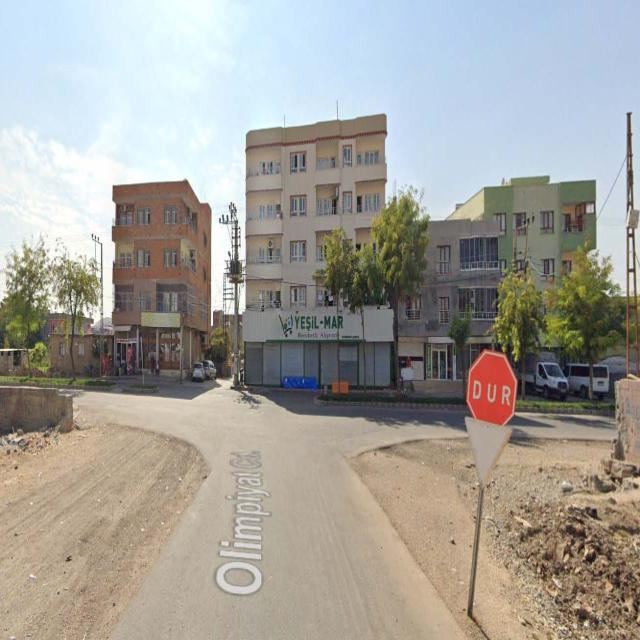dur: (468, 351, 514, 429)
